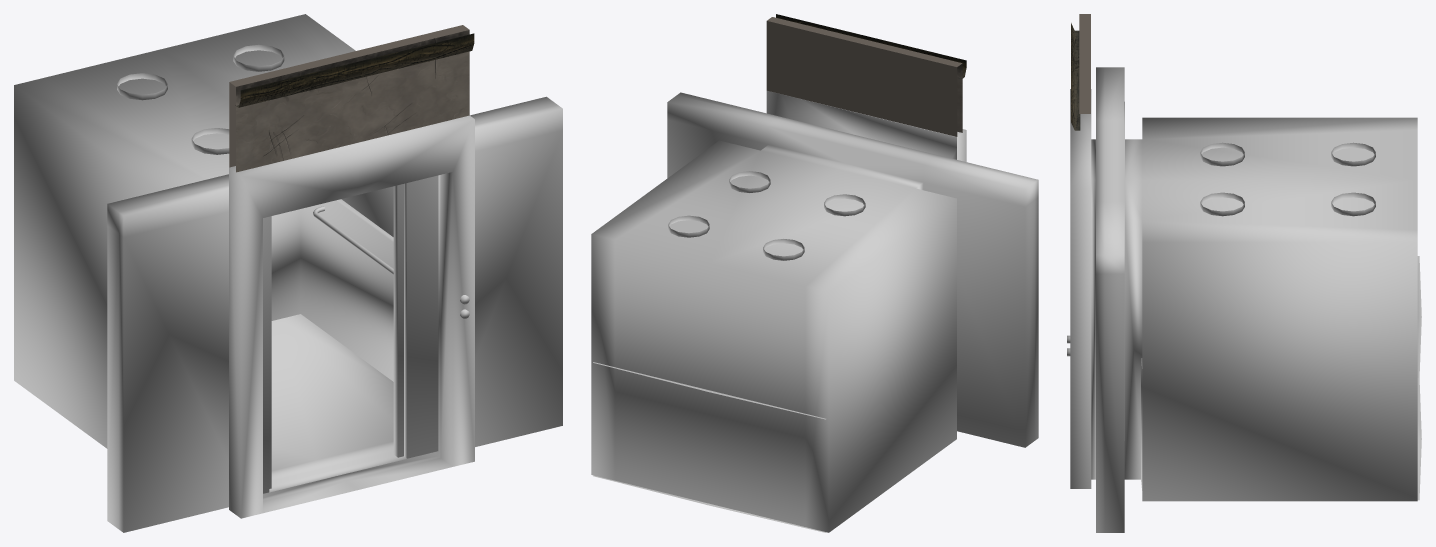
Rendered from Elevator.fbx.
3 views of the same model, side by side, from view 1: azimuth 30°, elevation 25°; view 2: azimuth 150°, elevation 25°; view 3: azimuth 270°, elevation 25° (orthographic). The views are drawn at different scales.
Parts seen in each view (by area): view 1: Elevator, wall_elevatorElement, elevator_Door_R, elevator_Doors_L, Elevator_Lamps; view 2: Elevator, wall_elevatorElement, Elevator_Lamps; view 3: Elevator, wall_elevatorElement, Elevator_Lamps.
Part boxes in pixels (x1,y1,x2,y2): Elevator: (14, 14, 562, 532); wall_elevatorElement: (229, 25, 474, 172); elevator_Door_R: (393, 175, 438, 458); elevator_Doors_L: (263, 216, 271, 493); Elevator_Lamps: (117, 44, 284, 154); Elevator: (591, 90, 1038, 532); wall_elevatorElement: (766, 14, 966, 136); Elevator_Lamps: (668, 171, 865, 260); Elevator: (1067, 67, 1421, 532); wall_elevatorElement: (1071, 14, 1090, 130); Elevator_Lamps: (1200, 142, 1375, 216).
Size of the model in its own units: 3.76 by 3.53 by 3.
